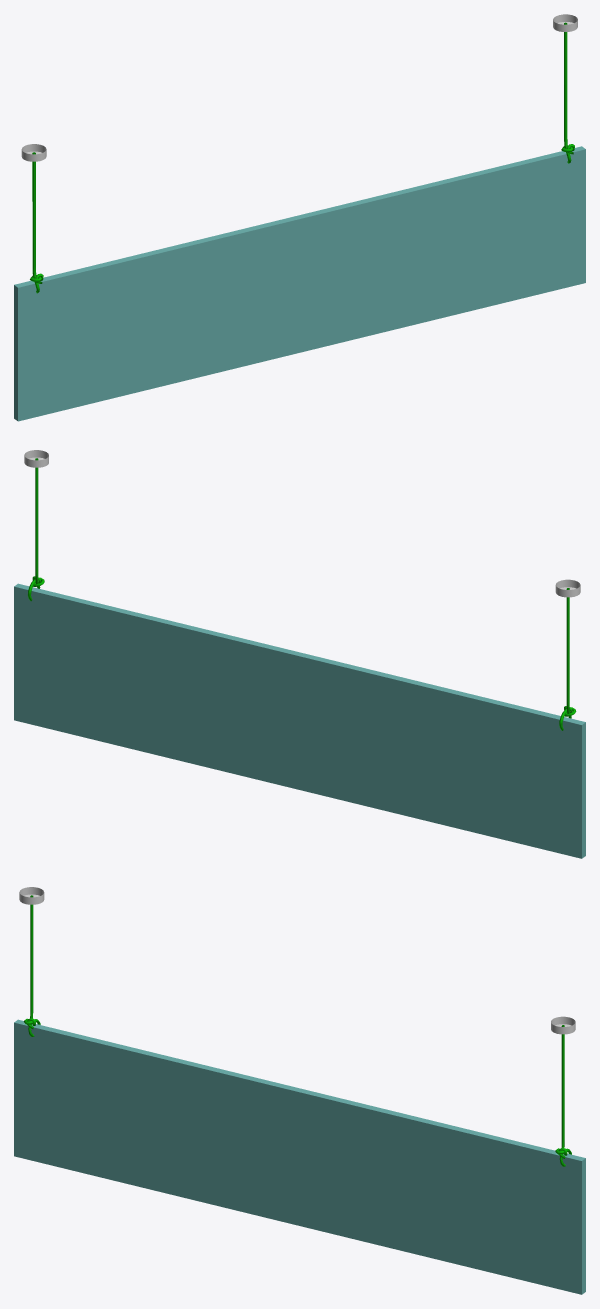
File: ApocalypticPharmacy01_DropOff.fbx
The picture shows the model from 3 angles, top to bottom: view 1: azimuth 30°, elevation 25°; view 2: azimuth 150°, elevation 25°; view 3: azimuth 330°, elevation 25°; orthographic projection.
Parts seen in each view (by area): view 1: ApocalypticPharmacy01_DropOff; view 2: ApocalypticPharmacy01_DropOff; view 3: ApocalypticPharmacy01_DropOff.
Part boxes in pixels (x1,y1,x2,y2): ApocalypticPharmacy01_DropOff: (14, 14, 585, 421); ApocalypticPharmacy01_DropOff: (14, 450, 585, 858); ApocalypticPharmacy01_DropOff: (14, 887, 585, 1294).
Size of the model in its own units: 0.8 by 0.3601 by 0.03.
